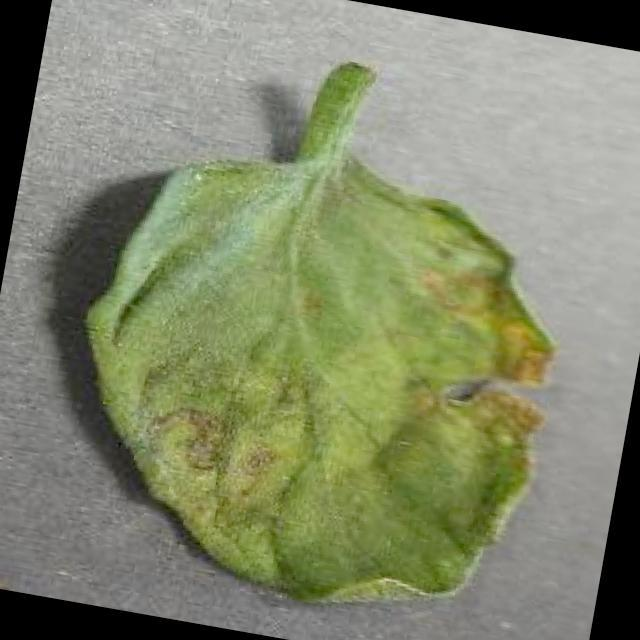Tomato bacterial spot leaf: (40, 114, 589, 640)
